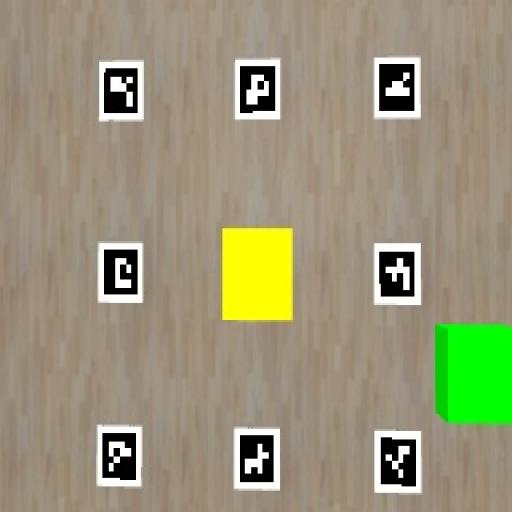car: (436, 325, 511, 426)
fire: (221, 227, 292, 322)
